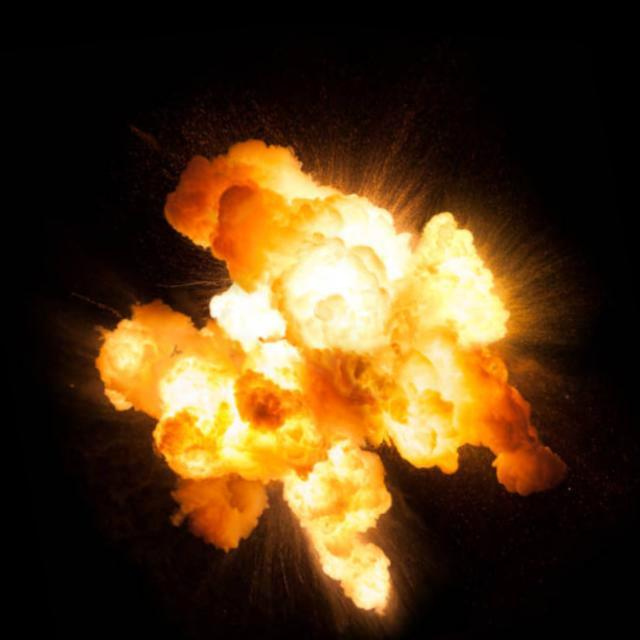fire: (46, 65, 578, 640)
